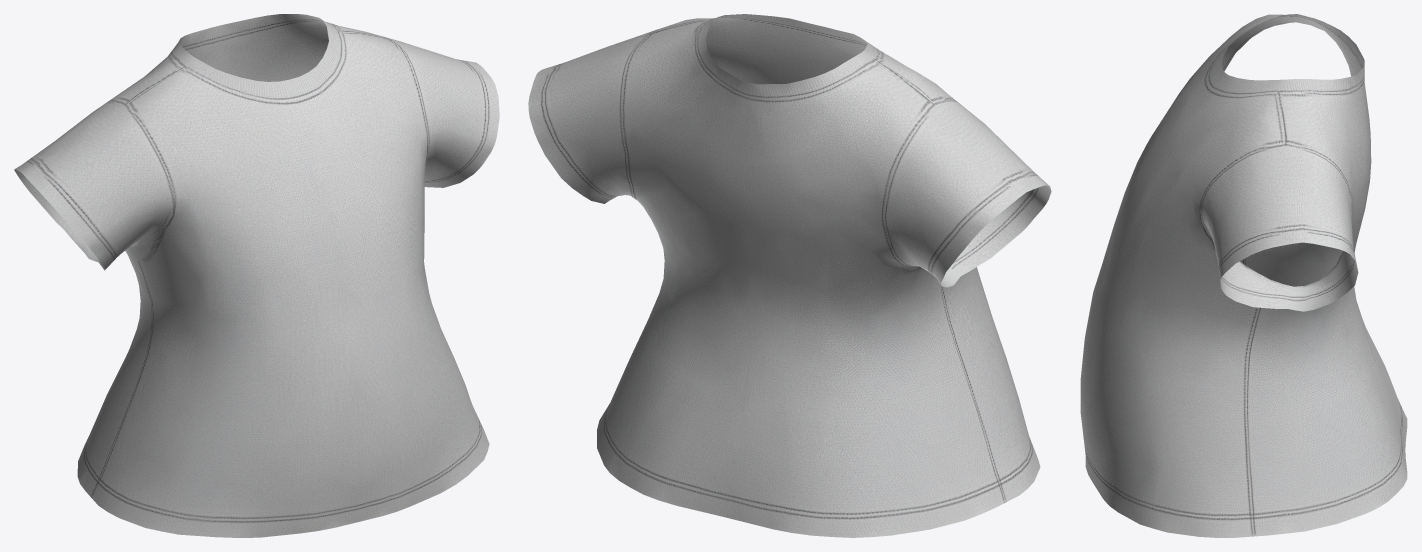
File: basicShirt.glb
3 views of the same model, side by side, from view 1: azimuth 30°, elevation 25°; view 2: azimuth 150°, elevation 25°; view 3: azimuth 270°, elevation 25° (orthographic). The views are drawn at different scales.
Parts seen in each view (by area): view 1: BasicShirt; view 2: BasicShirt; view 3: BasicShirt.
Part boxes in pixels (<box>): BasicShirt: <box>14,14,499,537</box>; BasicShirt: <box>528,14,1051,537</box>; BasicShirt: <box>1080,14,1407,537</box>.
Size of the model in its own units: 9.1 by 7.84 by 5.68.
1 material, 1 textured.
